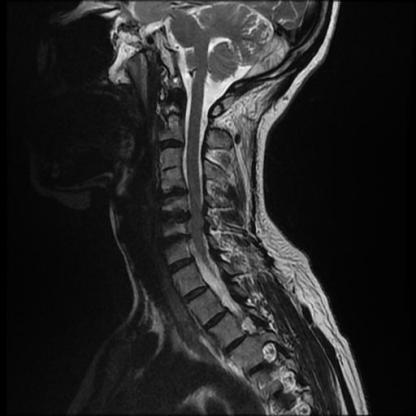Disc Protrusionrotation: (160, 209, 190, 225), (160, 186, 190, 201), (159, 165, 183, 174)
Osteophytesrotation: (159, 209, 189, 225), (160, 186, 190, 201), (159, 165, 183, 174)
